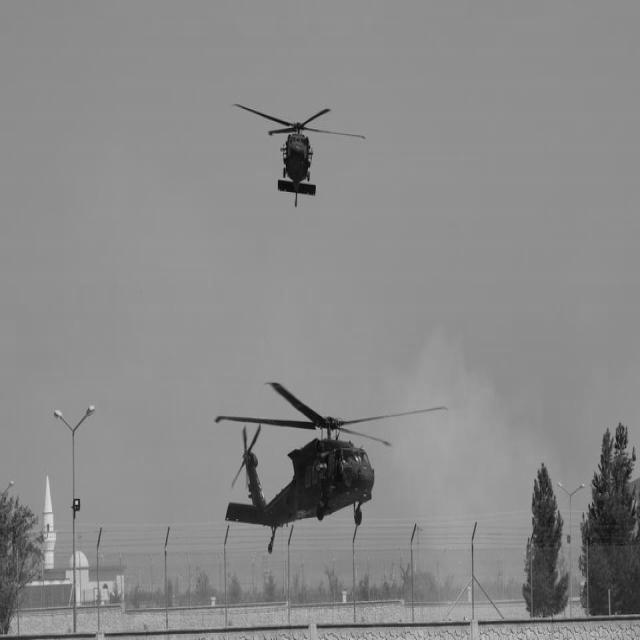helikopter: (211, 360, 463, 546), (226, 87, 388, 228)
